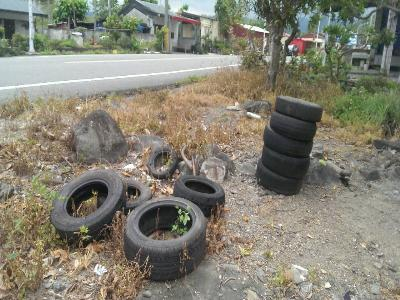tire: (123, 196, 207, 282), (51, 168, 129, 248), (173, 173, 227, 216), (254, 158, 304, 196), (260, 145, 311, 179), (262, 125, 314, 157), (273, 93, 323, 124), (270, 109, 318, 141)
